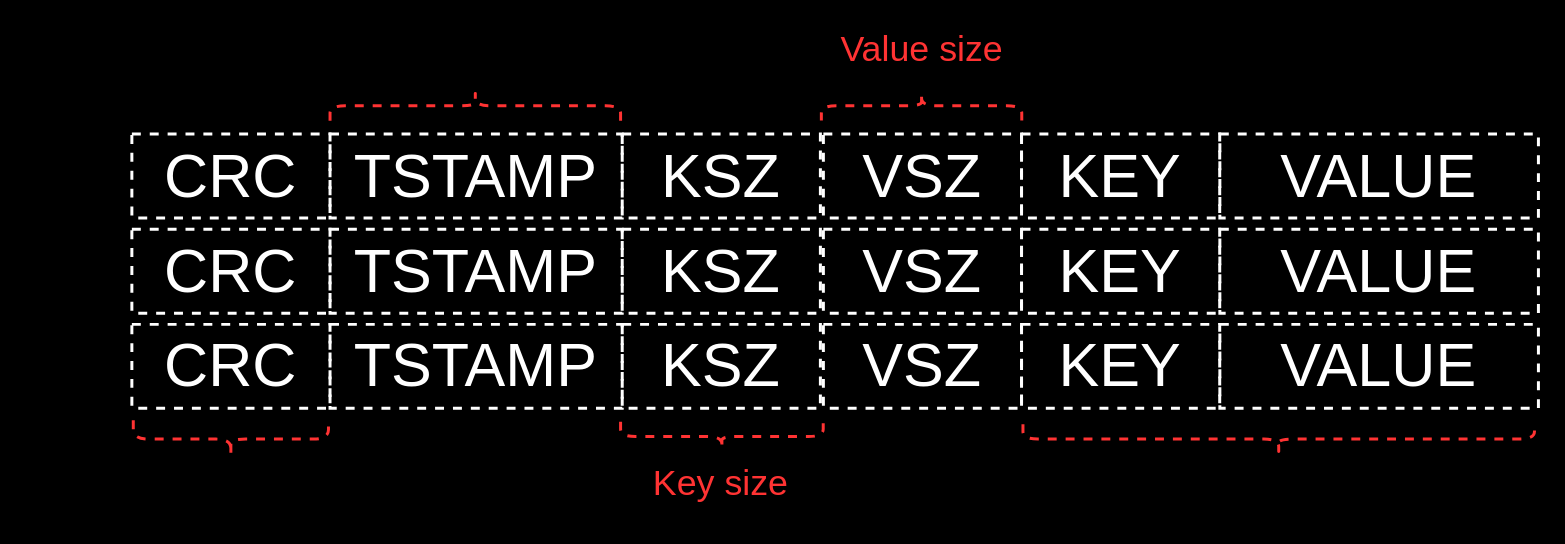
This 1565x544 diagram has some shape labels left out. The shapes that lost their labels are listed below. From the top down, each one's centre as x and y in pixels, then its label:
At point 474,105: "Timestamp".
At point 230,438: "Cyclic redundancy check".
At point 1278,438: "Data".
